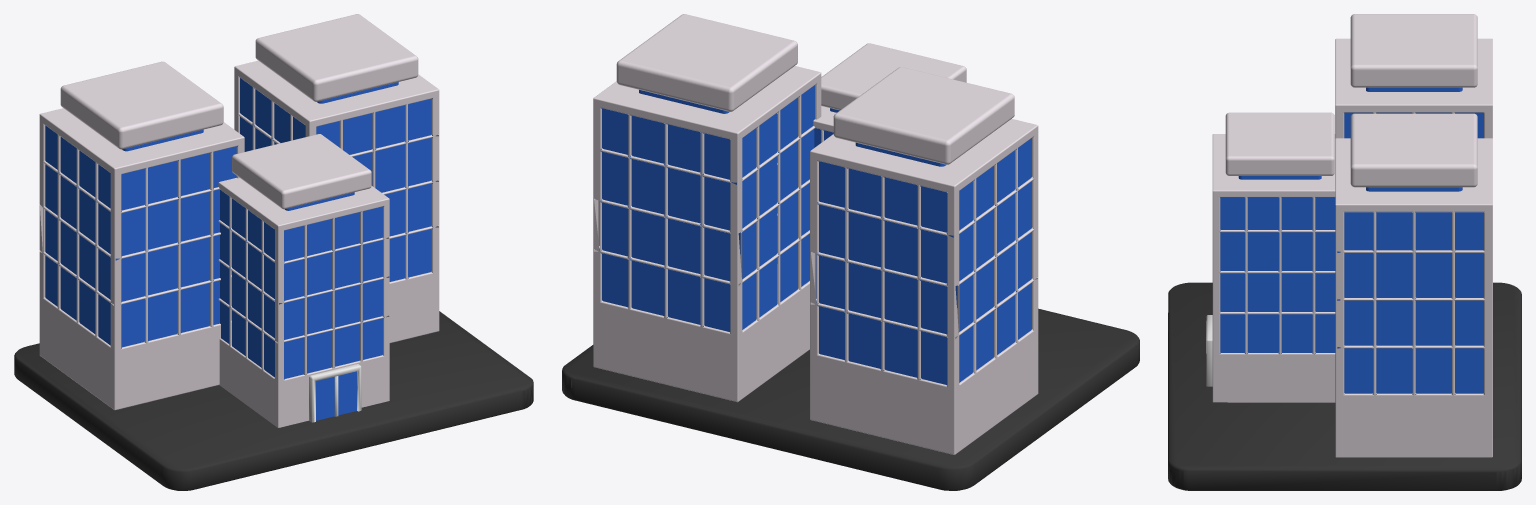
The model's file is hextar.glb.
3 renders of one model, left to right at view 1: azimuth 30°, elevation 25°; view 2: azimuth 150°, elevation 25°; view 3: azimuth 270°, elevation 25°, orthographic. The views are drawn at different scales.
Parts seen in each view (by area): view 1: Cube.219; view 2: Cube.219; view 3: Cube.219.
Boxes of the visible parts, bbox=[...] form: Cube.219: bbox=[14, 14, 533, 490]; Cube.219: bbox=[562, 14, 1139, 490]; Cube.219: bbox=[1168, 14, 1521, 490].
Bounding box in the file's own units: 1 × 0.7641 × 0.7951.
